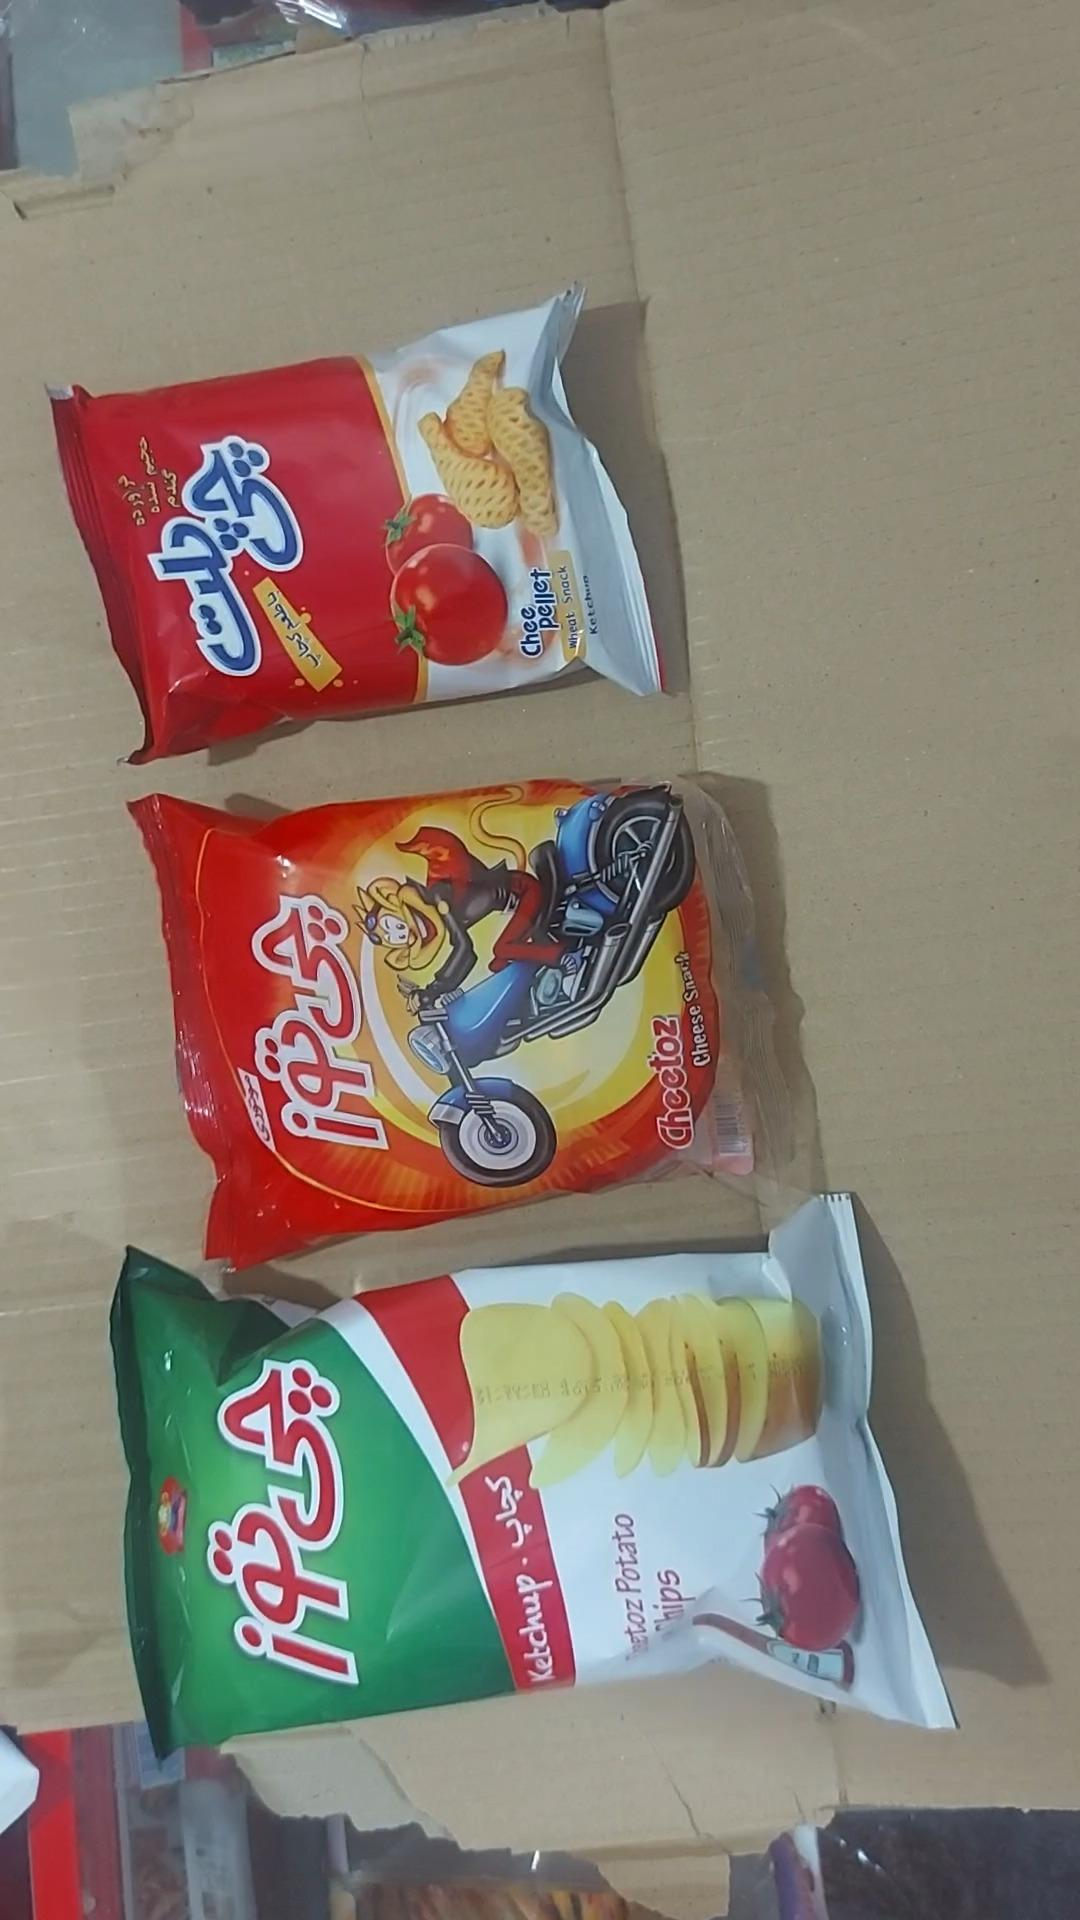Chee pellet ketchup: (49, 289, 665, 764)
Cheetoz ketchup chips: (109, 1193, 955, 1754)
Cheetoz snack 30g: (129, 781, 774, 1269)
